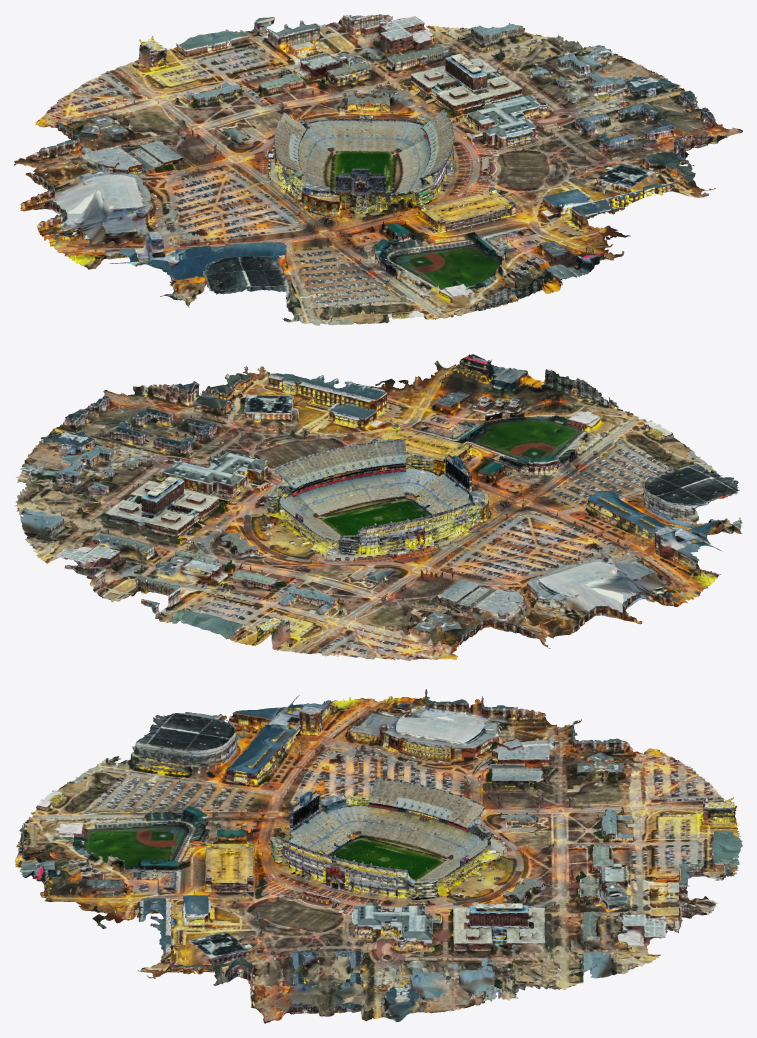
Rendered from jordan_hare_stadium.glb.
3 views of the same model, one above another, from view 1: azimuth 30°, elevation 25°; view 2: azimuth 150°, elevation 25°; view 3: azimuth 270°, elevation 25° (orthographic). The views are drawn at different scales.
Visible parts, largest first — view 1: y-up; view 2: y-up; view 3: y-up.
Part boxes in pixels (<box>): y-up: <box>14,14,742,325</box>; y-up: <box>14,354,742,660</box>; y-up: <box>15,689,742,1023</box>.
Bounding box in the file's own units: 890 × 84.68 × 832.
1 material, 1 textured.
